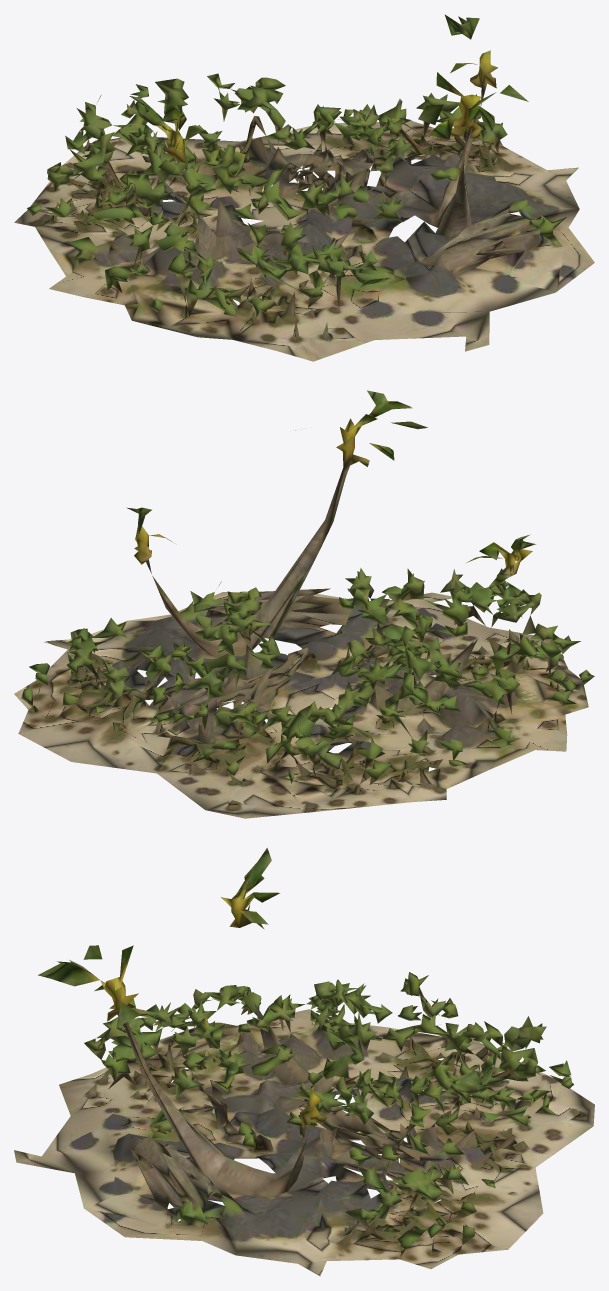
The model's file is palm-islet.glb.
The picture shows the model from 3 angles, top to bottom: view 1: azimuth 30°, elevation 25°; view 2: azimuth 150°, elevation 25°; view 3: azimuth 270°, elevation 25°; orthographic projection. The views are drawn at different scales.
Parts seen in each view (by area): view 1: geometry_0; view 2: geometry_0; view 3: geometry_0.
Part boxes in pixels (box(x1,y1,x2,y2)): geometry_0: box(14, 14, 594, 361); geometry_0: box(14, 390, 594, 818); geometry_0: box(14, 848, 594, 1276).
Bounding box in the file's own units: 2.32 × 0.9564 × 2.24.
1 material, 1 textured.
